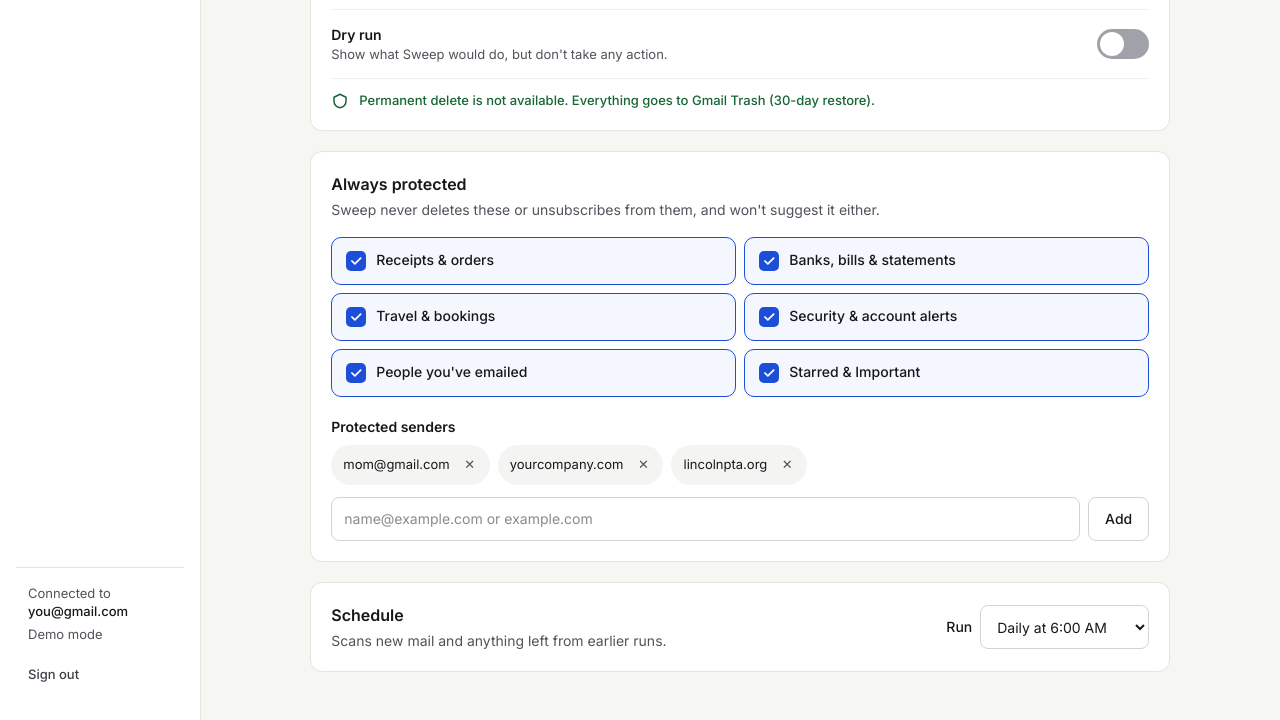
Rules & safety › removes a protected sender
(page scrolled)
Click the button named "Remove yourcompany.com".
click(644, 465)  # box 630,451 -> 658,479
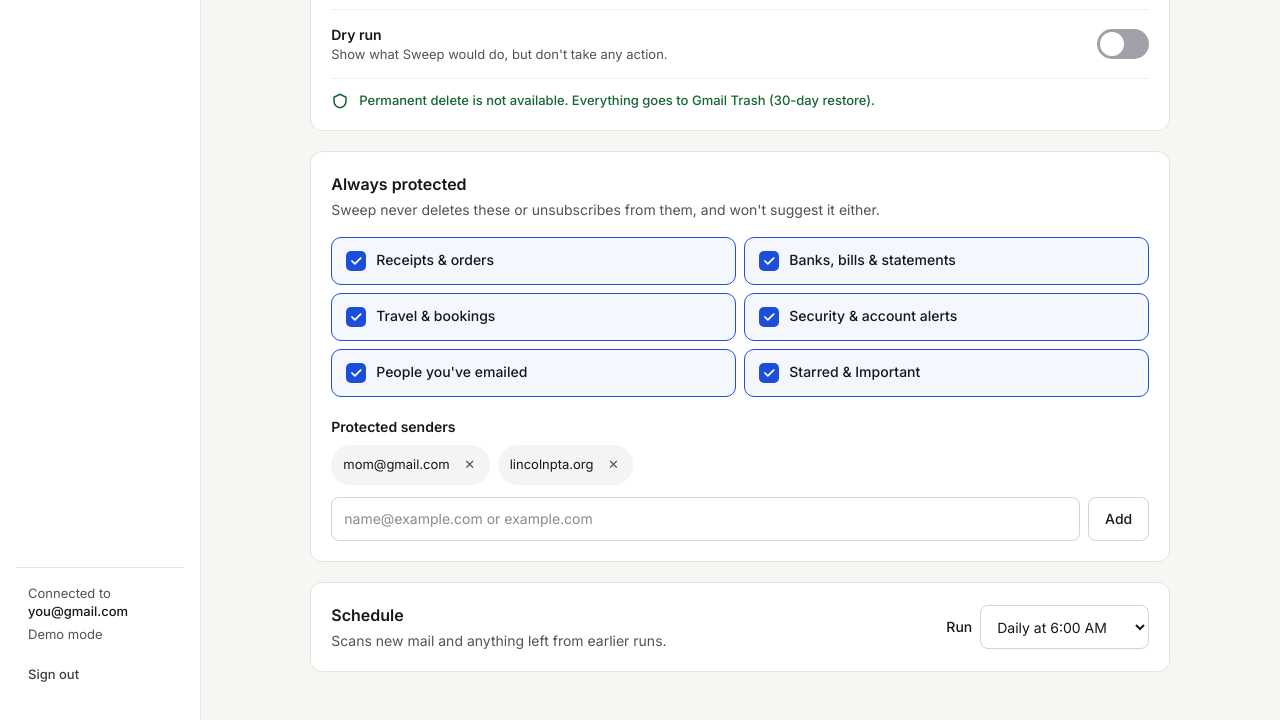
Check: the text "yourcompany.com" is gone
